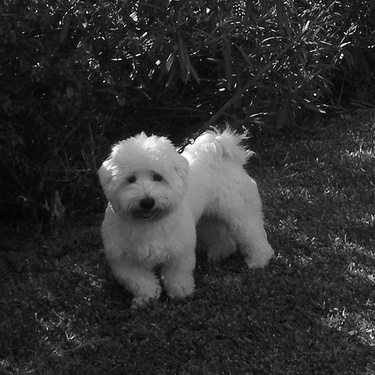dog: (84, 114, 278, 313)
